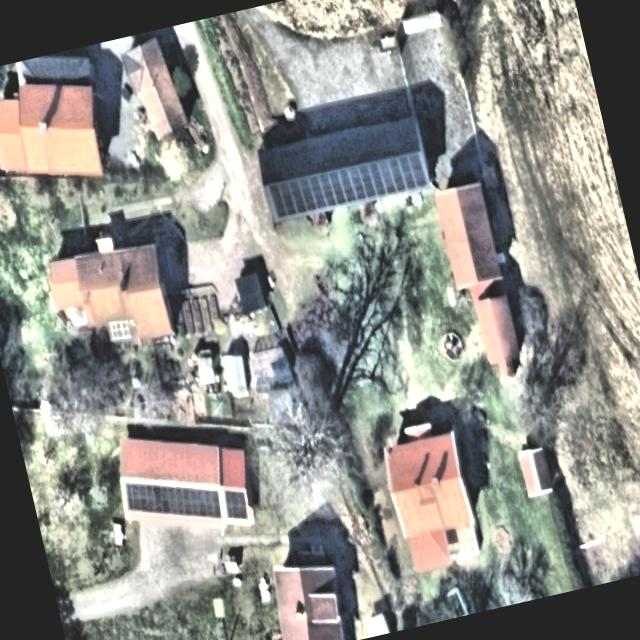roof_pv: (267, 150, 430, 226), (120, 476, 162, 526), (154, 476, 194, 526), (187, 478, 226, 524), (220, 486, 250, 526)
